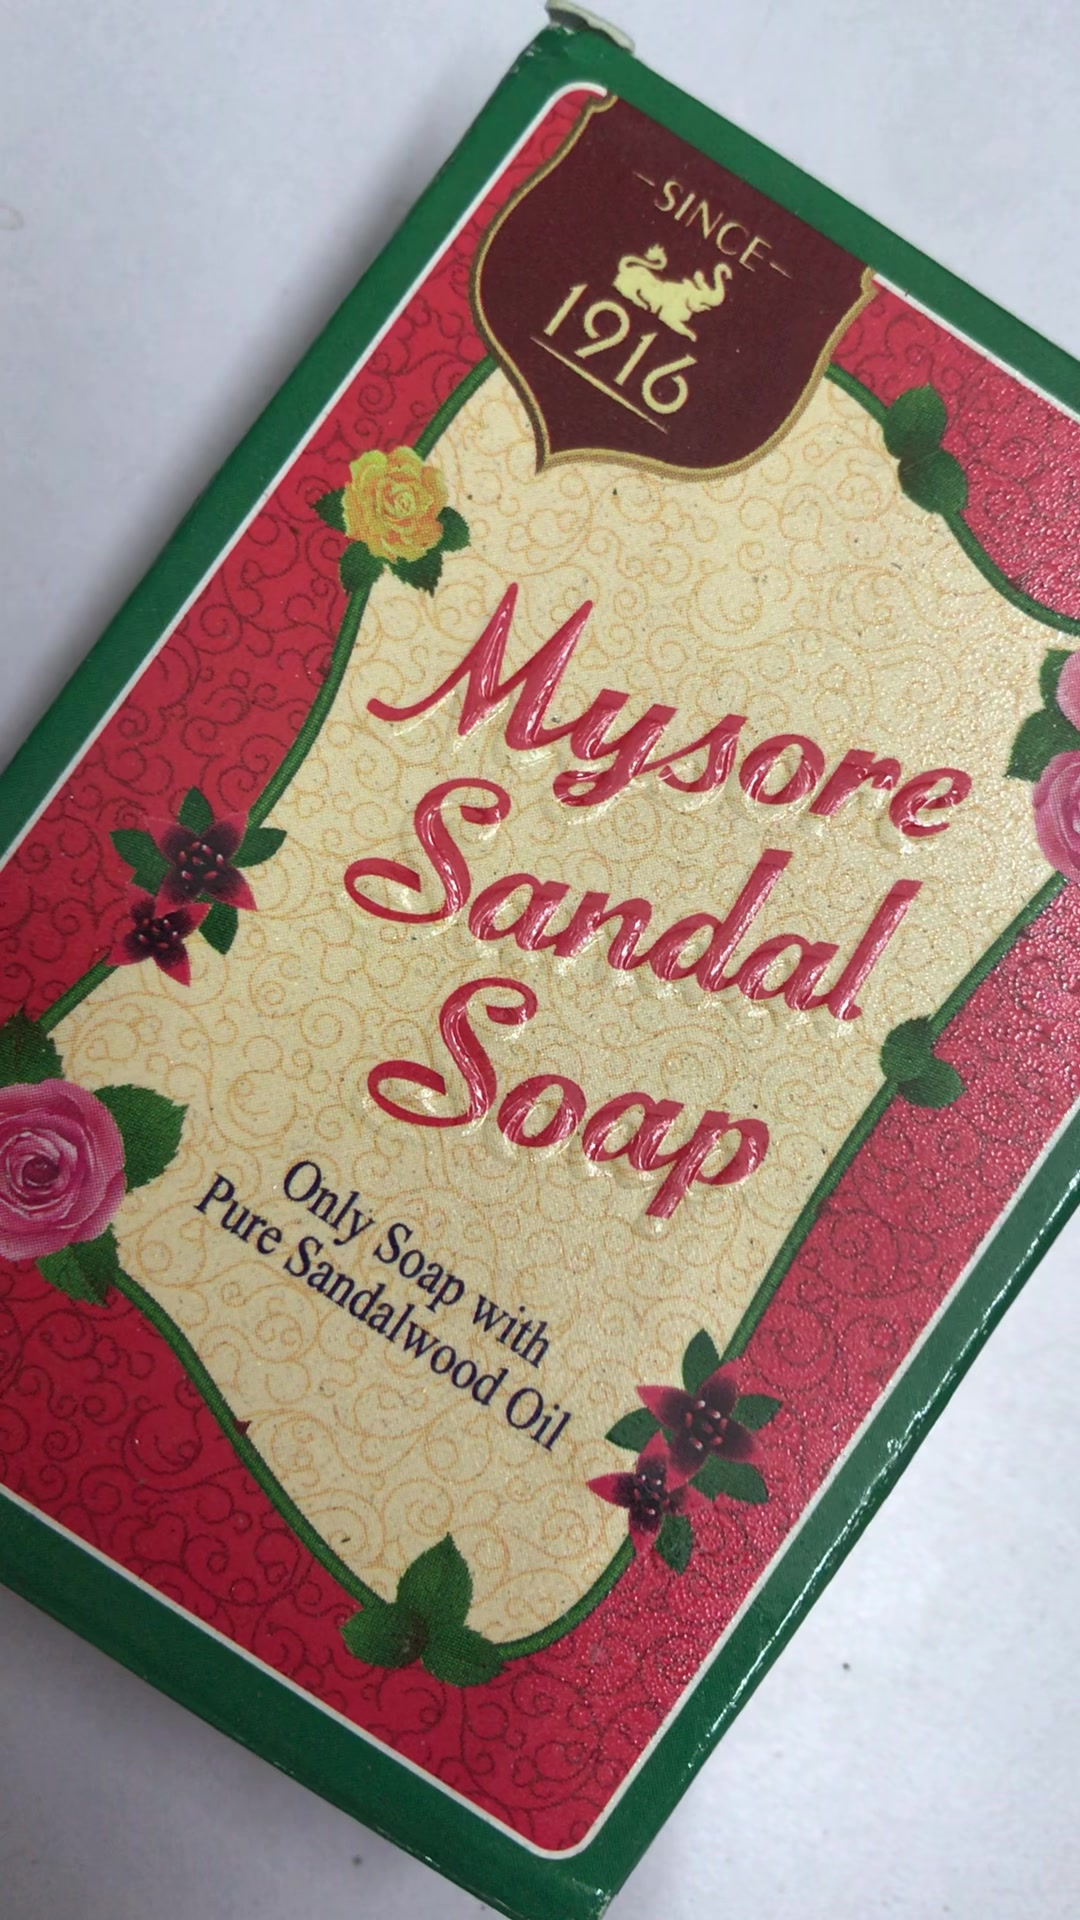mysore sandal soap: (1, 1, 1073, 1900)
